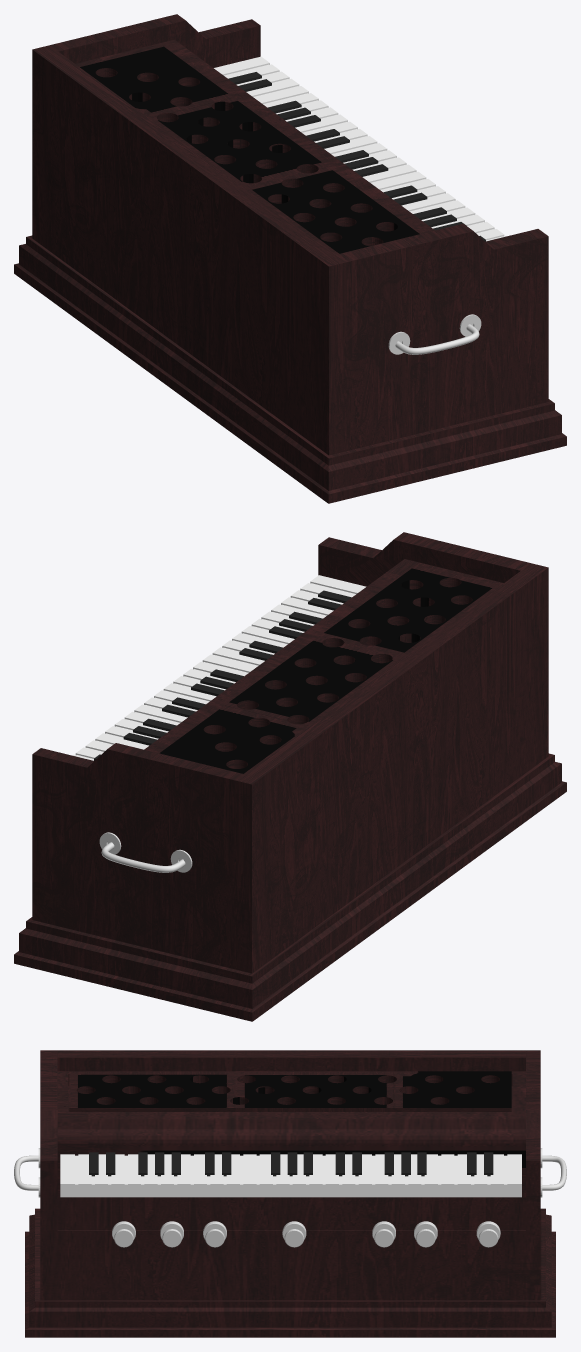
File: indian_harmonium.glb
3 renders of one model, top to bottom at view 1: azimuth 30°, elevation 25°; view 2: azimuth 150°, elevation 25°; view 3: azimuth 270°, elevation 25°, orthographic. The views are drawn at different scales.
Parts seen in each view (by area): view 1: Cube_0, Cube.002_3, Cube.003_4, Cube.001_2, NurbsPath.001_32; view 2: Cube_0, Cube.002_3, Cube.003_4, Cube.001_2, NurbsPath.001_32; view 3: Cube_0, Cube.001_2, Cube.002_3, Cube.003_4, NurbsPath.001_32, Cylinder_22, Cylinder.002_24, Cylinder.006_28, Cylinder.003_25, Cylinder.001_23, Cylinder.005_27, Cylinder.004_26.
Part boxes in pixels (x1,y1,x2,y2): Cube_0: (14, 14, 566, 503); Cube.002_3: (80, 46, 419, 254); Cube.003_4: (214, 56, 506, 241); Cube.001_2: (75, 39, 434, 233); NurbsPath.001_32: (395, 324, 479, 354); Cube_0: (14, 532, 566, 1021); Cube.002_3: (159, 564, 500, 773); Cube.003_4: (73, 575, 366, 760); Cube.001_2: (144, 559, 503, 753); NurbsPath.001_32: (101, 842, 185, 872); Cube_0: (25, 1050, 555, 1337); Cube.001_2: (57, 1071, 525, 1197); Cube.002_3: (69, 1071, 511, 1111); Cube.003_4: (60, 1154, 521, 1197); NurbsPath.001_32: (14, 1155, 566, 1190); Cylinder_22: (112, 1221, 135, 1247); Cylinder.002_24: (203, 1221, 226, 1247); Cylinder.006_28: (476, 1221, 500, 1247); Cylinder.003_25: (282, 1221, 306, 1247); Cylinder.001_23: (160, 1221, 183, 1247); Cylinder.005_27: (414, 1221, 437, 1247); Cylinder.004_26: (372, 1221, 395, 1247).
Bounding box in the file's own units: 1.96 × 1.73 × 4.51.
Materials: 4 (1 with a texture image).
